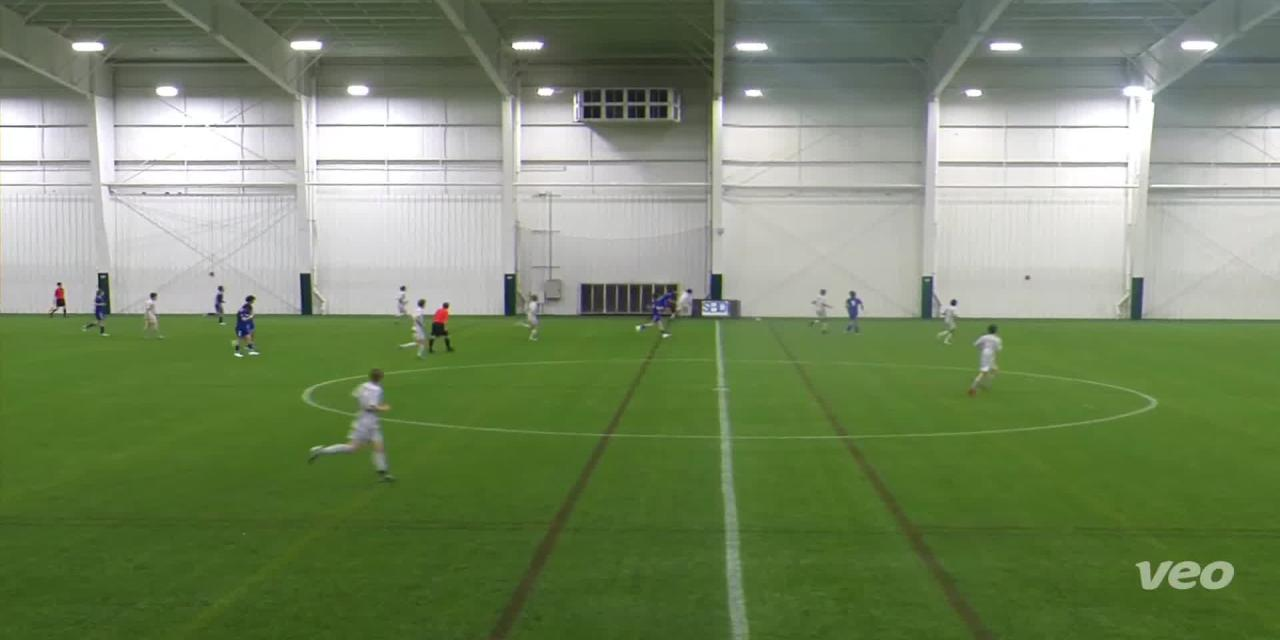sports ball: (750, 310, 766, 326)
